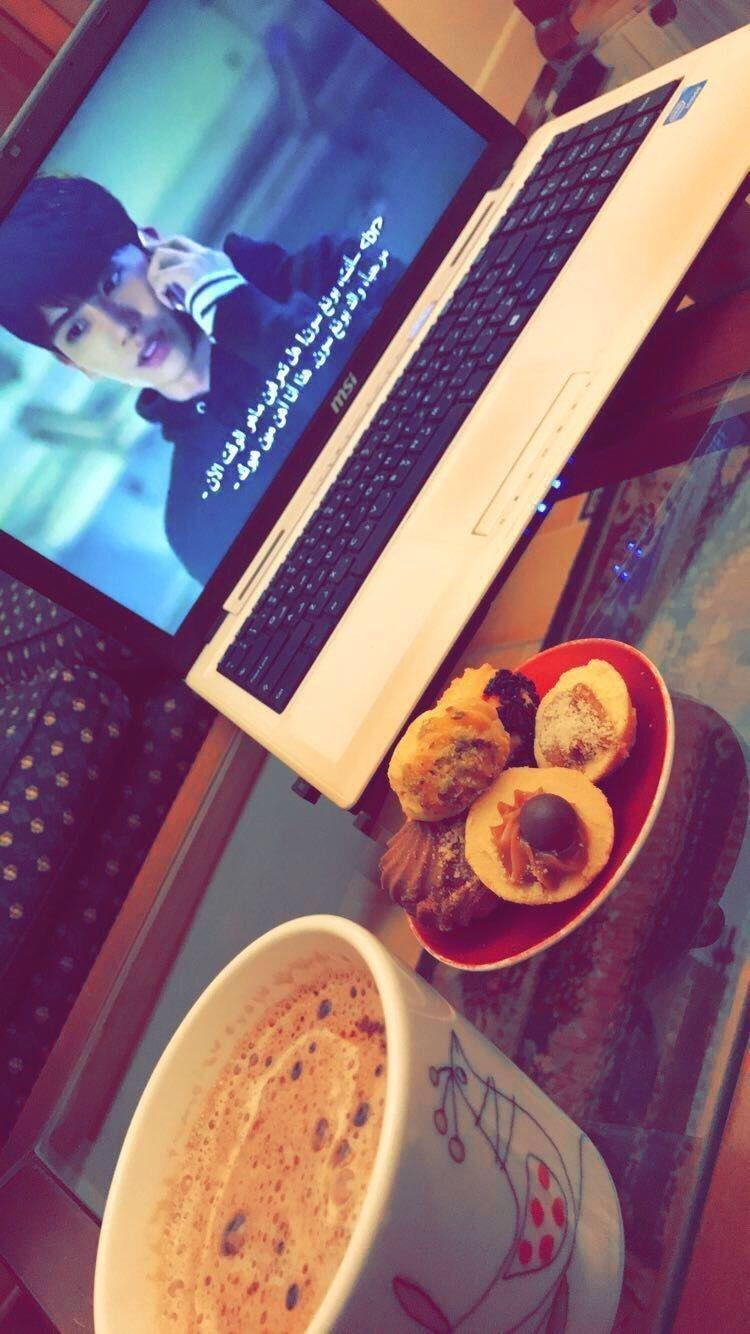cup-handle: (96, 913, 624, 1333)
